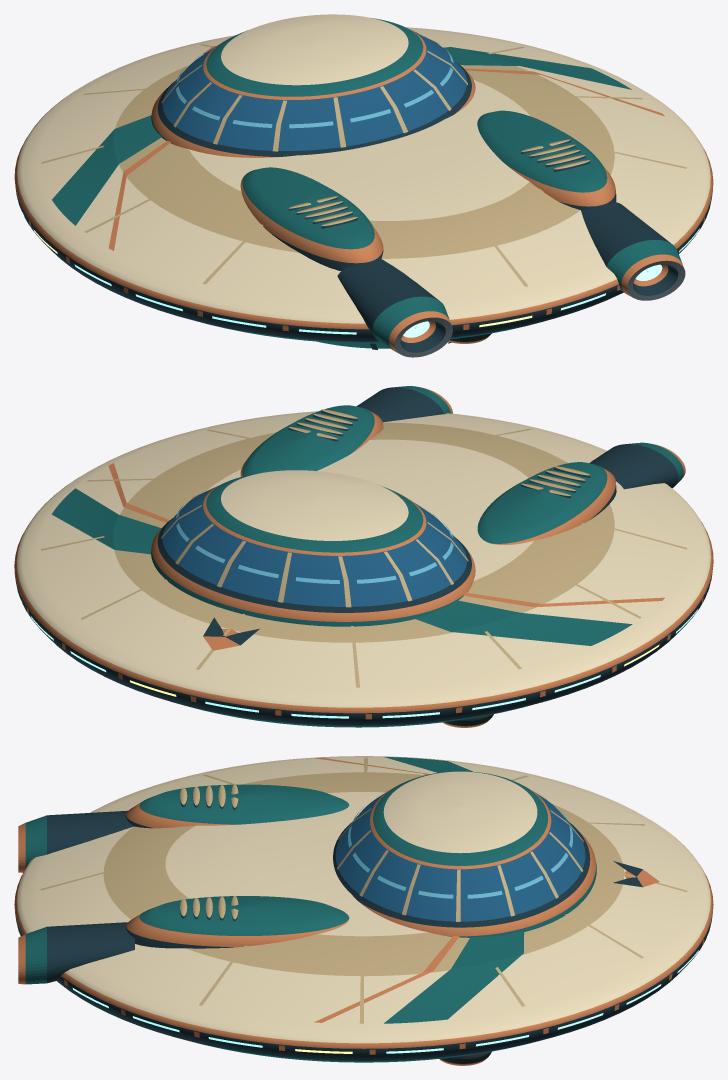
File: saucer.glb
3 renders of one model, top to bottom at view 1: azimuth 30°, elevation 25°; view 2: azimuth 150°, elevation 25°; view 3: azimuth 270°, elevation 25°, orthographic.
Parts seen in each view (by area): view 1: Saucer; view 2: Saucer; view 3: Saucer.
Part boxes in pixels (box(x1,y1,x2,y2)): Saucer: box(14, 14, 713, 357); Saucer: box(14, 386, 713, 727); Saucer: box(14, 756, 713, 1065).
Bounding box in the file's own units: 12.8 × 4.27 × 13.12.
